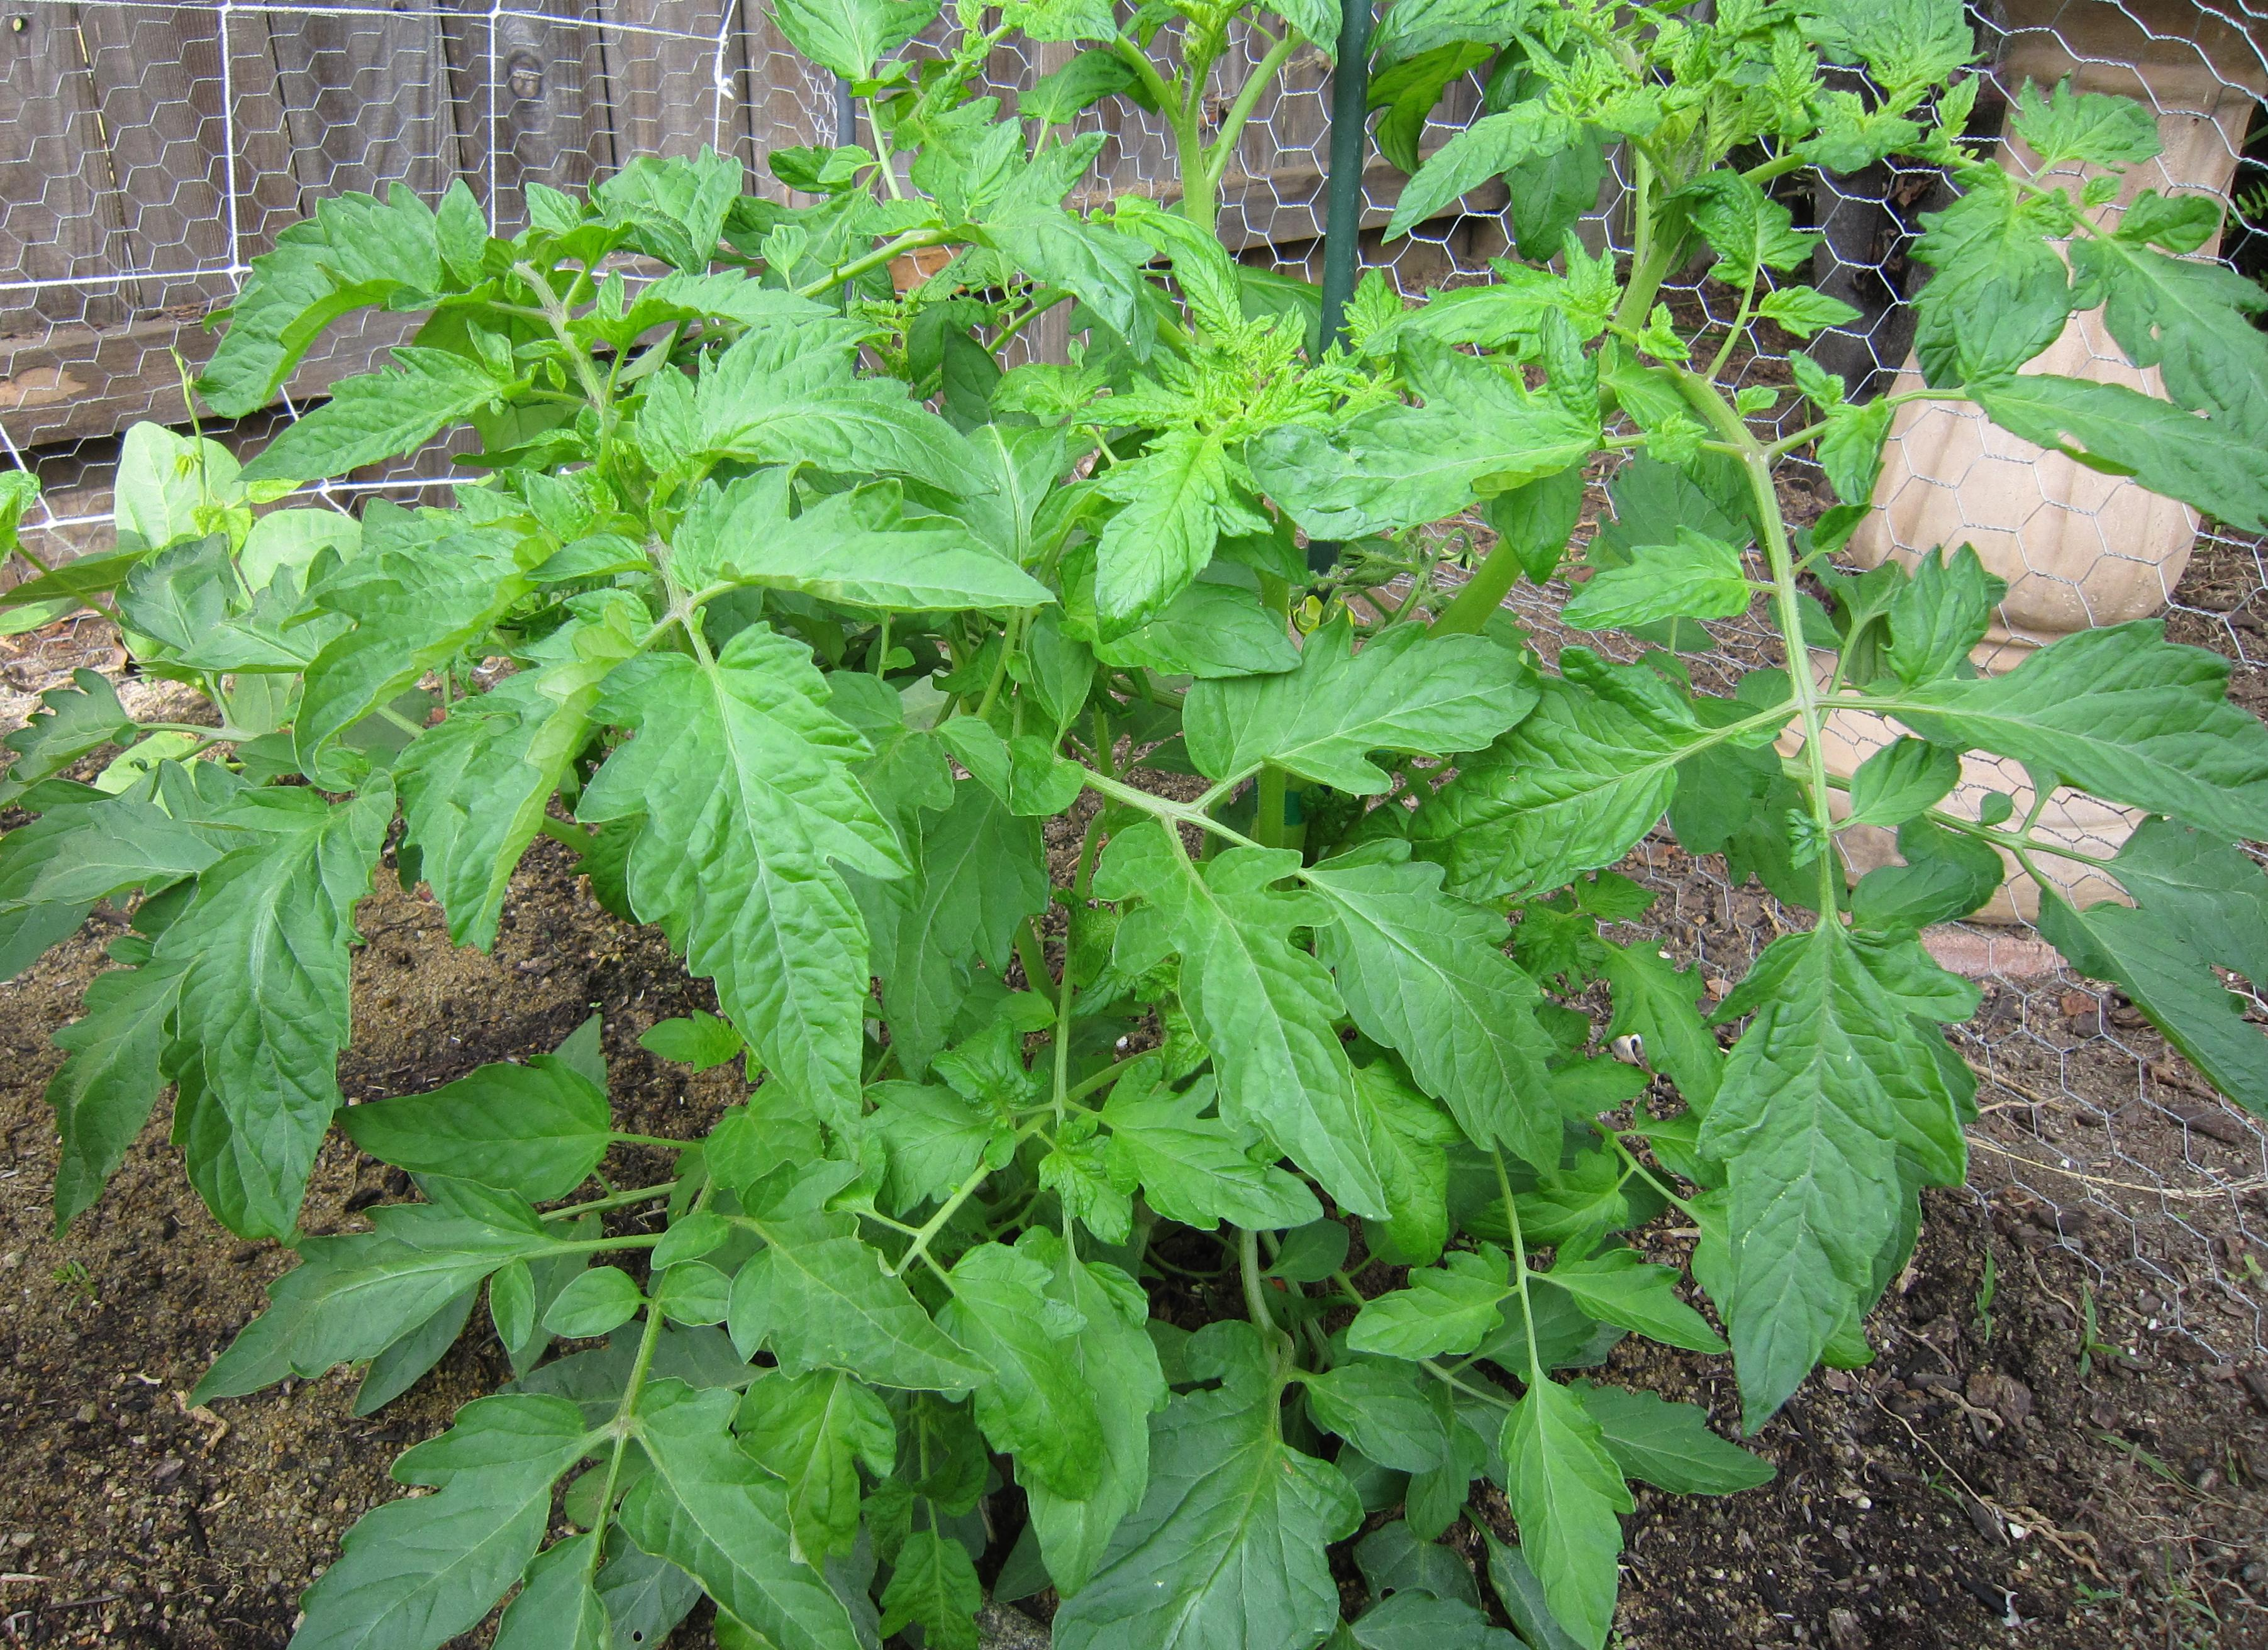Tomato leaf: (1680, 930, 1948, 1488), (618, 646, 900, 1104), (1858, 578, 2268, 880), (178, 715, 393, 1263), (1211, 329, 1696, 539), (1307, 814, 1579, 1182), (187, 155, 507, 446), (1062, 1359, 1366, 1650), (858, 706, 1067, 1108), (1169, 620, 1546, 842), (602, 1384, 914, 1650), (581, 324, 979, 530), (287, 1370, 572, 1650), (410, 586, 641, 928), (1970, 343, 2268, 602), (680, 470, 1042, 680), (689, 1197, 983, 1453), (1196, 877, 1400, 1243), (217, 1185, 534, 1421), (2025, 856, 2268, 1134), (905, 1215, 1120, 1527), (248, 320, 537, 535), (291, 461, 613, 650), (0, 755, 239, 1005), (1079, 1086, 1363, 1291), (900, 116, 1153, 335), (1372, 72, 1636, 282), (350, 1044, 636, 1215), (572, 236, 875, 394), (1085, 410, 1255, 650), (704, 530, 1072, 616), (1534, 527, 1777, 641), (755, 0, 932, 116)
